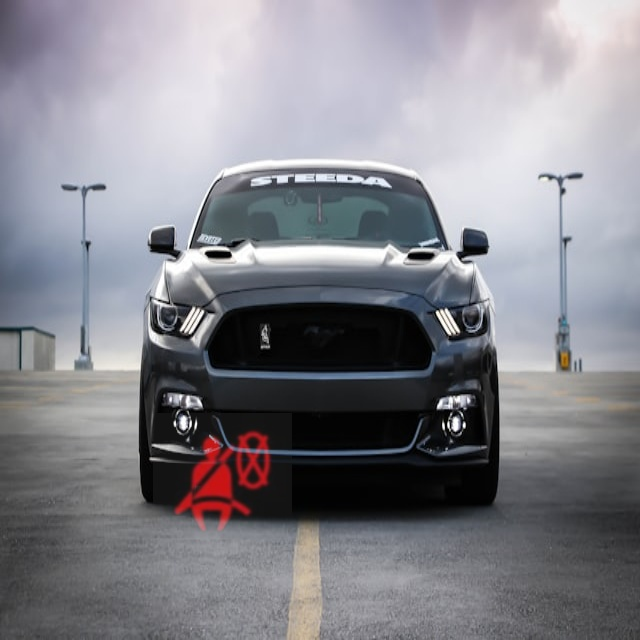symbol: (153, 413, 292, 552)
